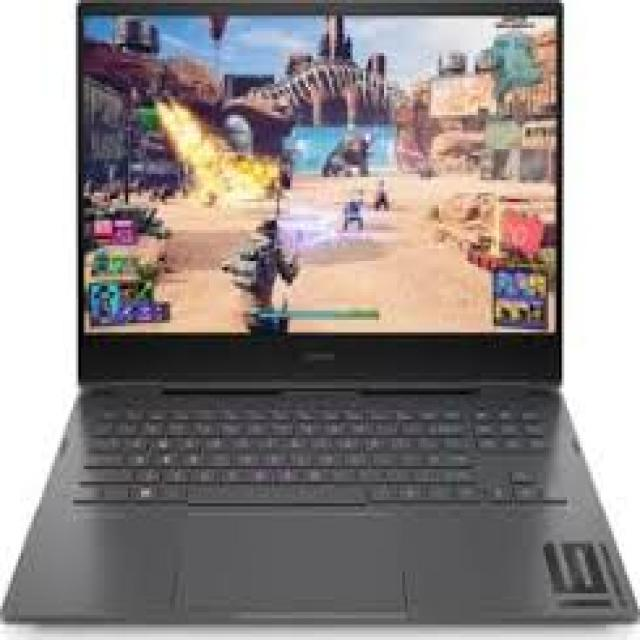others: (2, 6, 640, 624)
